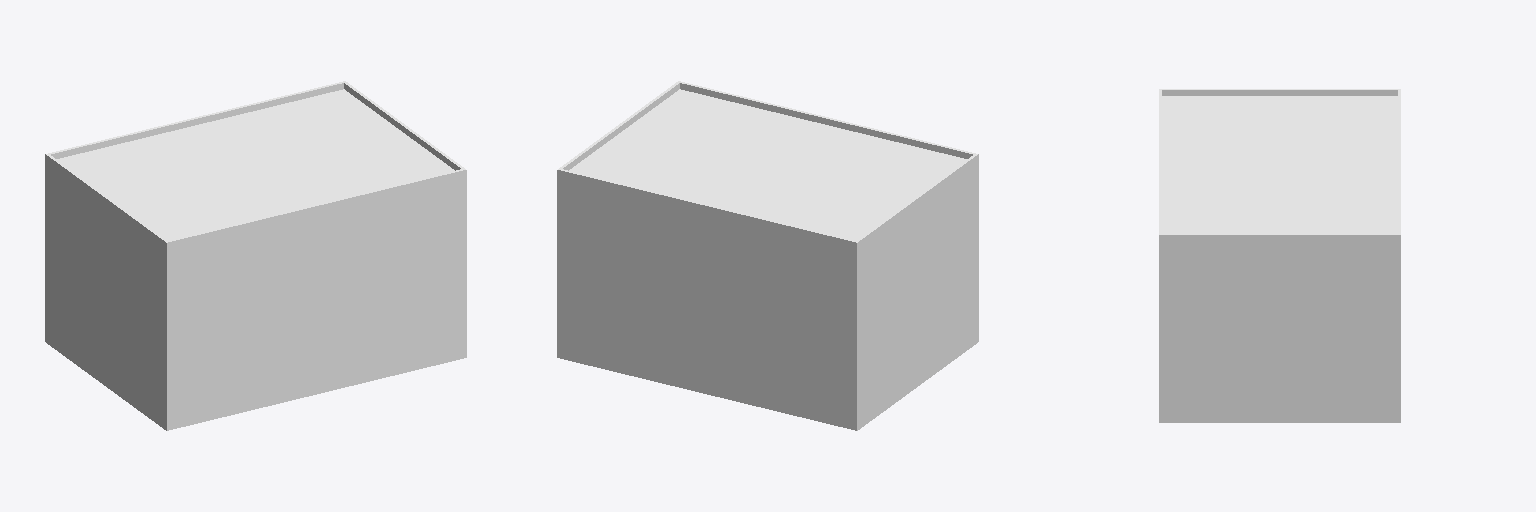
File: House1-0.obj
3 views of the same model, side by side, from view 1: azimuth 30°, elevation 25°; view 2: azimuth 150°, elevation 25°; view 3: azimuth 270°, elevation 25° (orthographic).
Parts seen in each view (by area): view 1: object 1; view 2: object 1; view 3: object 1.
Boxes of the visible parts, <box> form: object 1: <box>45,81,466,430</box>; object 1: <box>557,81,978,430</box>; object 1: <box>1159,89,1400,422</box>.
Bounding box in the file's own units: 10 × 6 × 7.